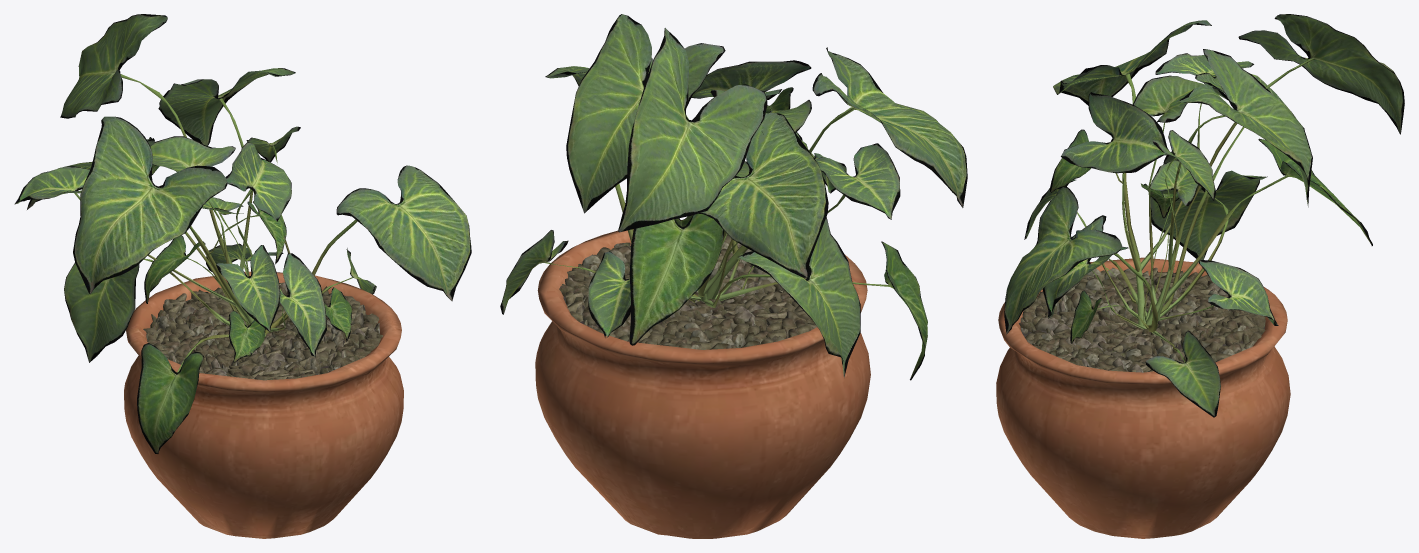
Rendered from potted_plant_02_lod.glb.
3 views of the same model, side by side, from view 1: azimuth 30°, elevation 25°; view 2: azimuth 150°, elevation 25°; view 3: azimuth 270°, elevation 25° (orthographic). The views are drawn at different scales.
Visible parts, largest first — view 1: potted_plant_02_leaves, potted_plant_02_pot, potted_plant_02_dirt; view 2: potted_plant_02_leaves, potted_plant_02_pot, potted_plant_02_dirt; view 3: potted_plant_02_leaves, potted_plant_02_pot, potted_plant_02_dirt.
Boxes of the visible parts, x1=… form: potted_plant_02_leaves: x1=14, y1=14, x2=471, y2=453; potted_plant_02_pot: x1=124, y1=271, x2=403, y2=538; potted_plant_02_dirt: x1=143, y1=282, x2=382, y2=380; potted_plant_02_leaves: x1=500, y1=14, x2=967, y2=380; potted_plant_02_pot: x1=535, y1=220, x2=870, y2=538; potted_plant_02_dirt: x1=559, y1=233, x2=816, y2=349; potted_plant_02_leaves: x1=1004, y1=14, x2=1404, y2=417; potted_plant_02_pot: x1=996, y1=257, x2=1290, y2=538; potted_plant_02_dirt: x1=1019, y1=267, x2=1265, y2=372.
Size of the model in its own units: 0.7009 by 0.8411 by 0.6561.
Materials: 2 (2 with a texture image).
